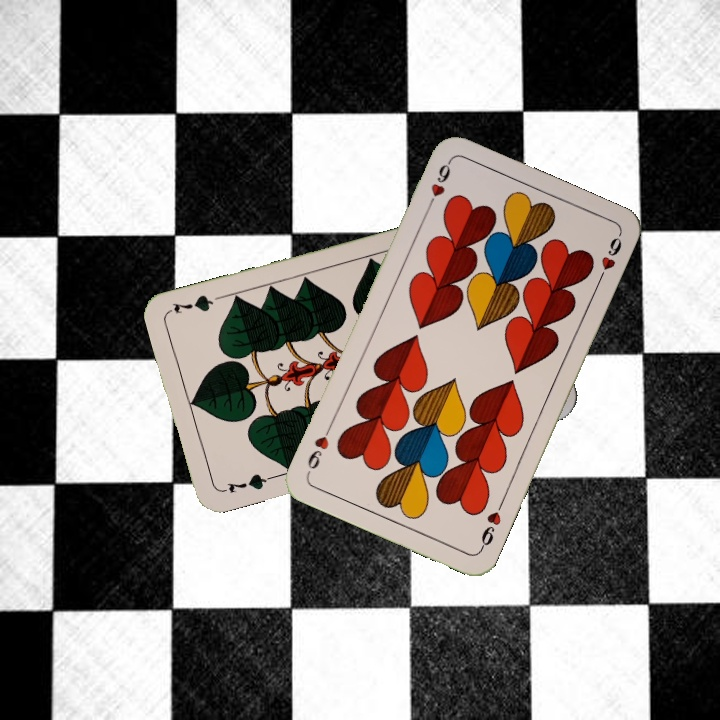G7: (217, 469, 275, 496)
H9: (422, 157, 454, 213), (476, 497, 507, 553)
